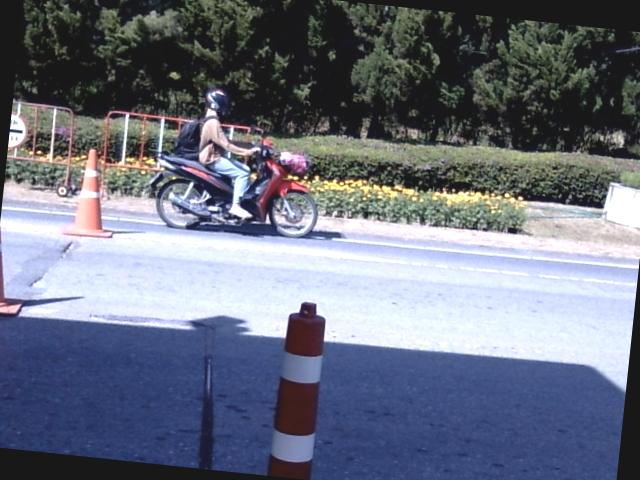helmet: (204, 87, 229, 116)
motor: (241, 134, 316, 235), (149, 152, 242, 228)
person: (198, 87, 259, 219)
